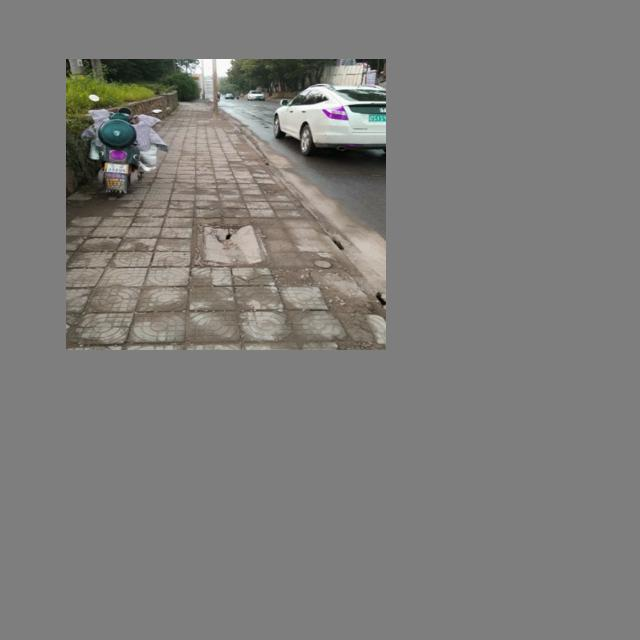broke: (194, 223, 268, 265)
